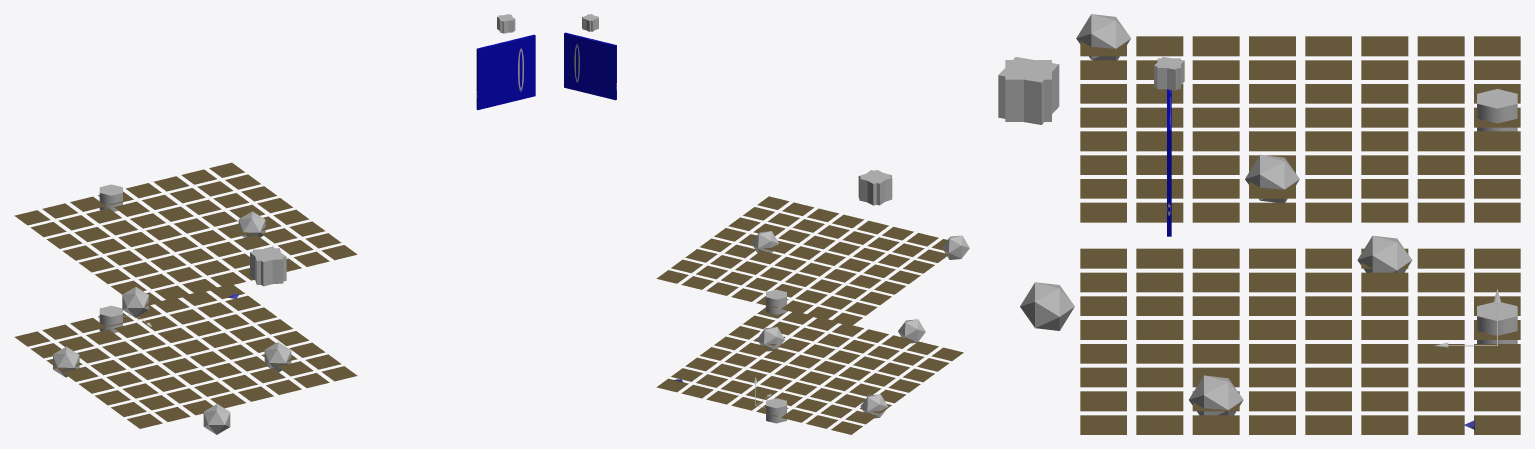
Rendered from ff_scene_no_anim.glb.
3 views of the same model, side by side, from view 1: azimuth 30°, elevation 25°; view 2: azimuth 150°, elevation 25°; view 3: azimuth 270°, elevation 25° (orthographic). The views are drawn at different scales.
Parts seen in each view (by area): view 1: fps-panel, spin_cube.001, spin_cube, btm-ball-5, top-ball-3, btm-ball-4, btm-ball-3, top-ball-4, btm-player, top-player; view 2: fps-panel, spin_cube.001, spin_cube, top-ball-3, top-player, btm-player, btm-ball-5, btm-ball-4, btm-ball-3, top-ball-4; view 3: spin_cube, spin_cube.001, btm-ball-5, btm-ball-4, btm-ball-3, top-ball-3, top-ball-4, top-player, btm-player, btm-tile-1-7, btm-tile-1-1, btm-tile-2-1 (+120 smaller).
Part boxes in pixels (x1=…): fps-panel: x1=476, y1=34, x2=535, y2=109; spin_cube.001: x1=250, y1=247, x2=286, y2=286; spin_cube: x1=253, y1=248, x2=283, y2=284; btm-ball-5: x1=203, y1=404, x2=230, y2=434; top-ball-3: x1=122, y1=287, x2=148, y2=317; btm-ball-4: x1=264, y1=342, x2=291, y2=371; btm-ball-3: x1=53, y1=346, x2=79, y2=377; top-ball-4: x1=238, y1=211, x2=265, y2=237; btm-player: x1=99, y1=305, x2=122, y2=333; top-player: x1=99, y1=184, x2=122, y2=211; fps-panel: x1=564, y1=32, x2=616, y2=100; spin_cube.001: x1=859, y1=170, x2=891, y2=205; spin_cube: x1=858, y1=170, x2=892, y2=205; top-ball-3: x1=942, y1=235, x2=969, y2=259; top-player: x1=766, y1=289, x2=786, y2=314; btm-player: x1=766, y1=398, x2=786, y2=423; btm-ball-5: x1=898, y1=319, x2=925, y2=343; btm-ball-4: x1=757, y1=327, x2=784, y2=351; btm-ball-3: x1=860, y1=394, x2=887, y2=418; top-ball-4: x1=751, y1=231, x2=779, y2=252; spin_cube: x1=998, y1=57, x2=1059, y2=124; spin_cube.001: x1=1005, y1=60, x2=1051, y2=121; btm-ball-5: x1=1020, y1=282, x2=1074, y2=330; btm-ball-4: x1=1189, y1=375, x2=1243, y2=415; btm-ball-3: x1=1357, y1=235, x2=1412, y2=272; top-ball-3: x1=1076, y1=14, x2=1130, y2=60; top-ball-4: x1=1245, y1=154, x2=1299, y2=202; top-player: x1=1477, y1=89, x2=1517, y2=131; btm-player: x1=1477, y1=302, x2=1517, y2=343; btm-tile-1-7: x1=1417, y1=248, x2=1464, y2=268; btm-tile-1-1: x1=1417, y1=391, x2=1464, y2=411; btm-tile-2-1: x1=1361, y1=391, x2=1408, y2=411.
Size of the model in its own units: 18.57 by 12.75 by 11.15.
8 materials, 2 textured.
